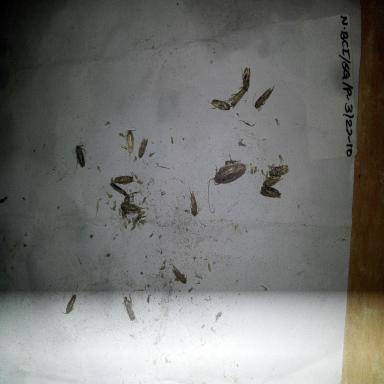pbw: (187, 191, 206, 232), (253, 83, 274, 115), (118, 288, 136, 325), (112, 167, 140, 189), (63, 291, 82, 321), (169, 259, 188, 286), (239, 63, 256, 93), (228, 85, 248, 108), (122, 128, 136, 158), (206, 96, 231, 112), (72, 142, 86, 170), (118, 201, 144, 216), (260, 174, 284, 188), (258, 186, 282, 200), (120, 192, 132, 220), (268, 163, 290, 178), (109, 180, 129, 196), (136, 133, 148, 159)
